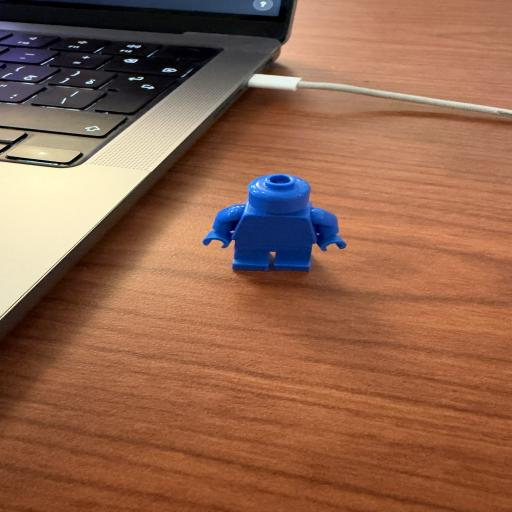Minifig: (201, 173, 348, 273)
